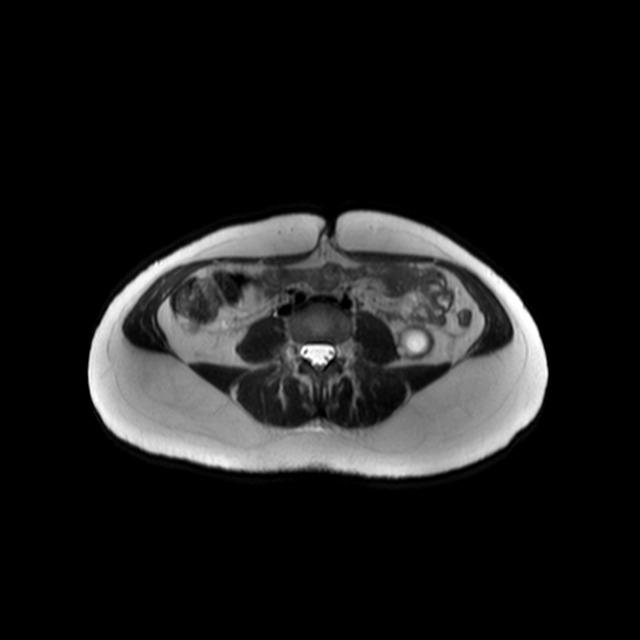sol: (396, 323, 434, 360)
